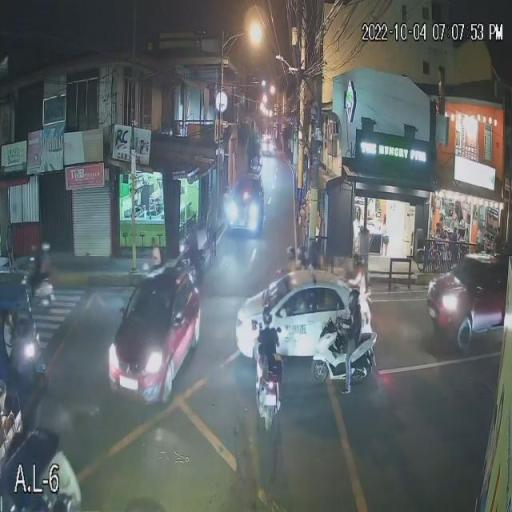helmet: (262, 307, 275, 332), (347, 288, 361, 311), (40, 241, 50, 253)
motorcycle: (310, 324, 382, 388), (254, 352, 279, 426), (20, 268, 54, 302)
rider: (343, 290, 362, 396), (261, 308, 277, 363), (36, 240, 53, 284)
